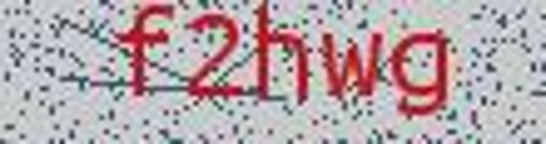2: (181, 9, 251, 102)
f: (111, 2, 174, 104)
g: (388, 23, 462, 126)
h: (248, 3, 313, 107)
w: (317, 24, 386, 106)
